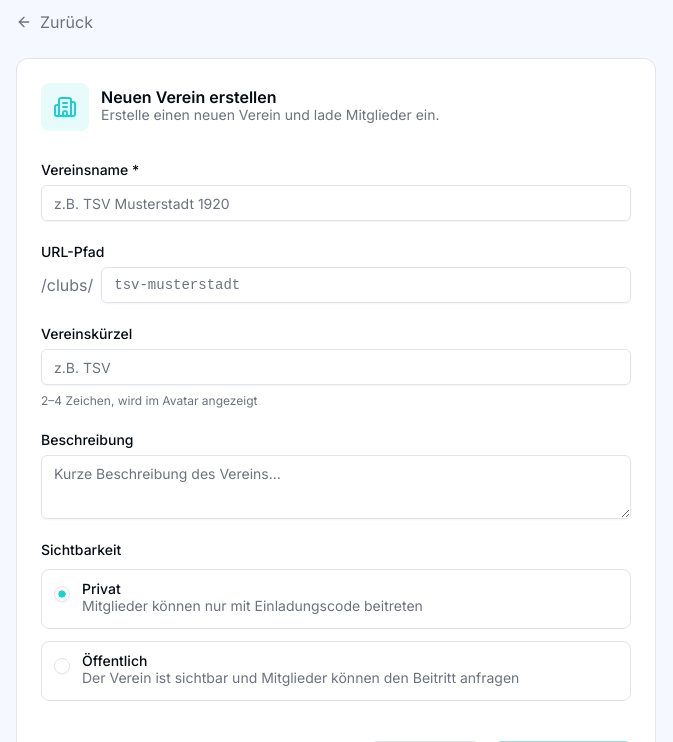
Test: NewClubPage › sunshine path › handles German umlauts in slug generation
This screenshot has width=673, height=742.
Type "Grün-Weiß München" into the field labelled "Vereinsname *".
click(336, 203); type("Grün-Weiß München")  # box [41,185,631,221]
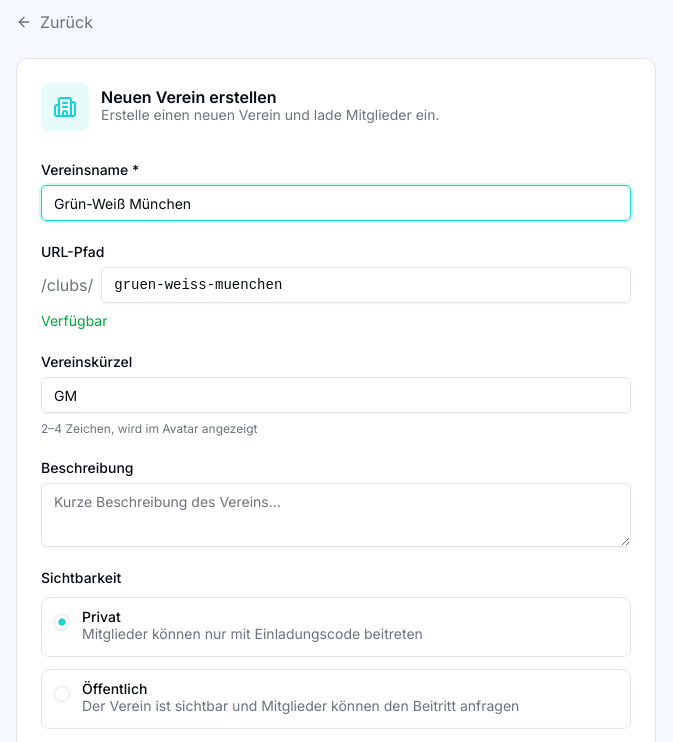
Expected: the field labelled "URL-Pfad" holds "gruen-weiss-muenchen", [101,267,631,303]
